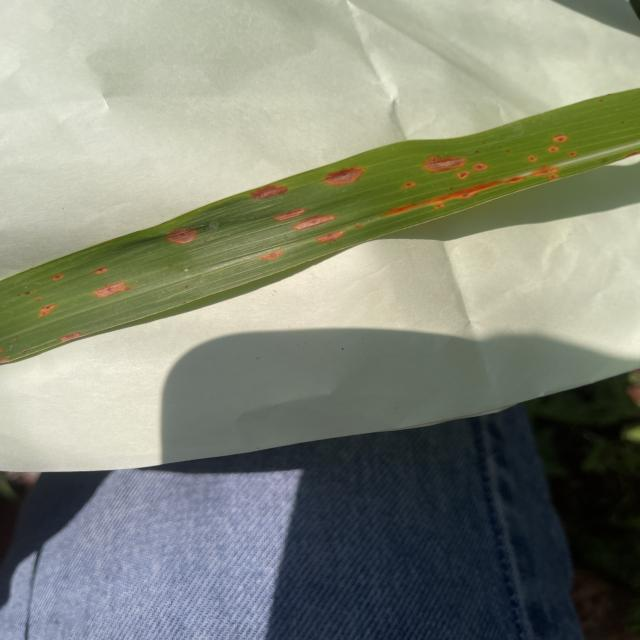millet_rust: (0, 84, 640, 370)
